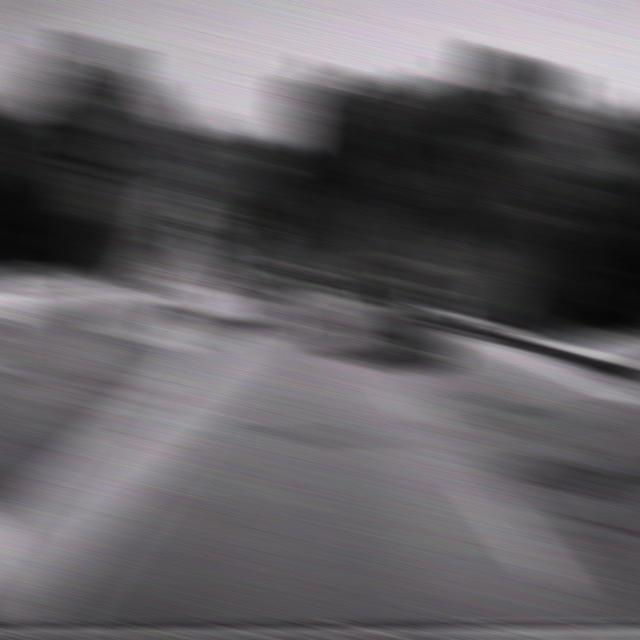speedLimit25: (61, 62, 134, 184)
